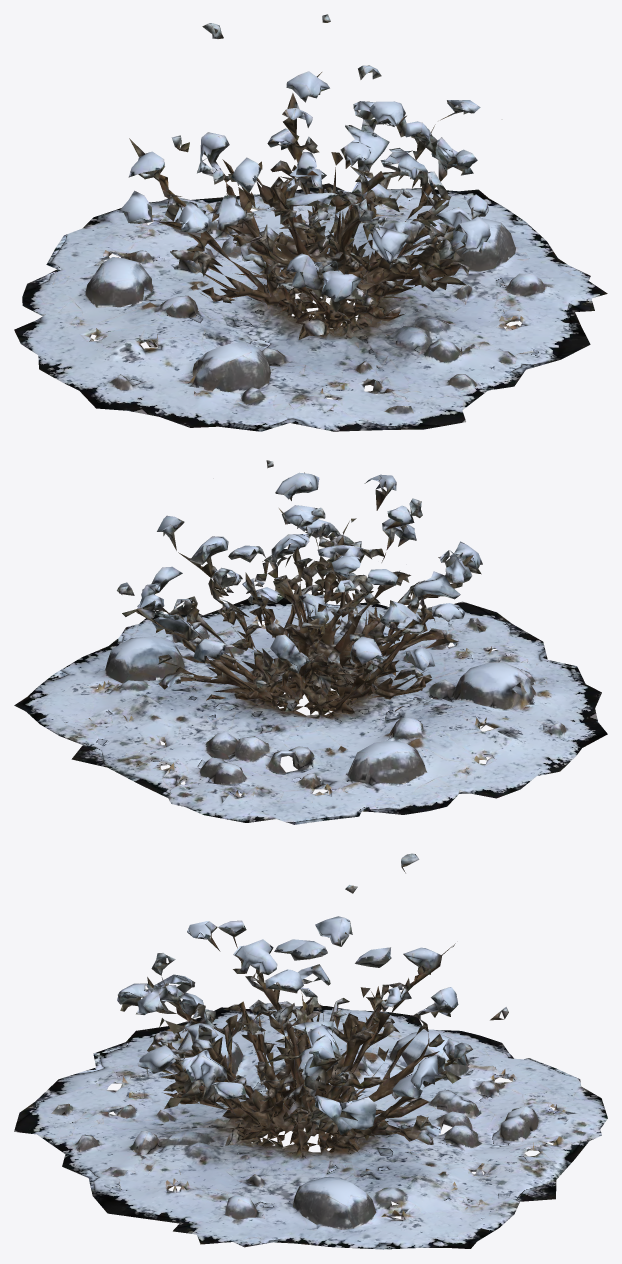
The model's file is snow-bush-3.glb.
The picture shows the model from 3 angles, top to bottom: view 1: azimuth 30°, elevation 25°; view 2: azimuth 150°, elevation 25°; view 3: azimuth 270°, elevation 25°; orthographic projection. The views are drawn at different scales.
Parts seen in each view (by area): view 1: geometry_0; view 2: geometry_0; view 3: geometry_0.
Boxes of the visible parts, x1,y1,x2,y2 form: geometry_0: [14, 14, 607, 431]; geometry_0: [14, 460, 607, 824]; geometry_0: [14, 853, 607, 1249].
Bounding box in the file's own units: 0.8944 × 0.4576 × 0.9194.
1 material, 1 textured.
